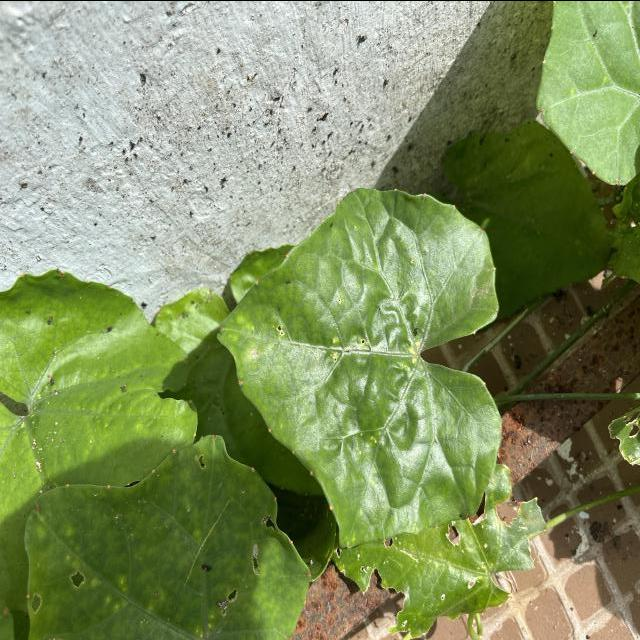Coccinia grandis: (212, 181, 506, 557)
